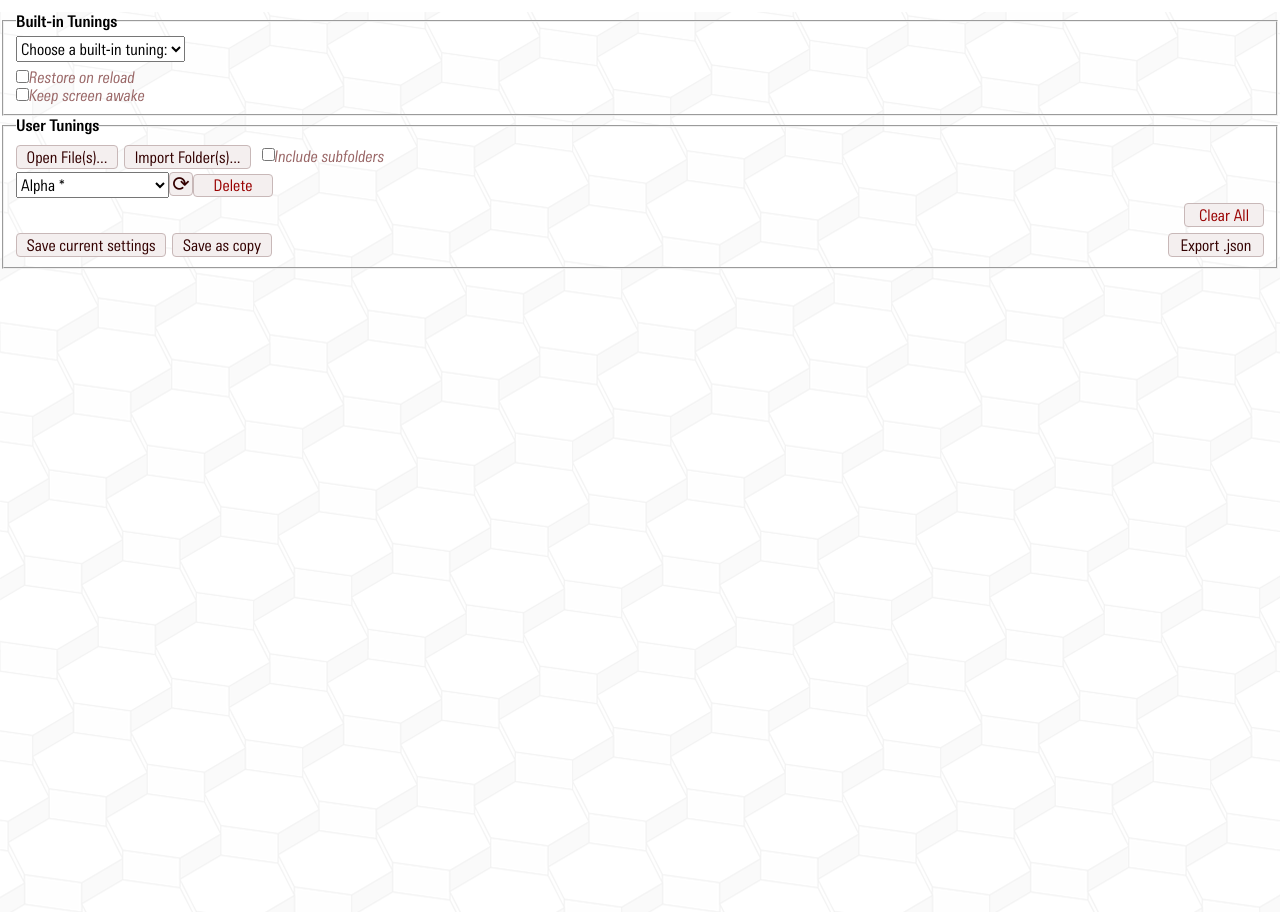
Test case: TuningLibrary › keeps save attached to the loaded user tuning after renaming
Click the button "Save current settings": coordinates (91, 245) [16,233,166,257]
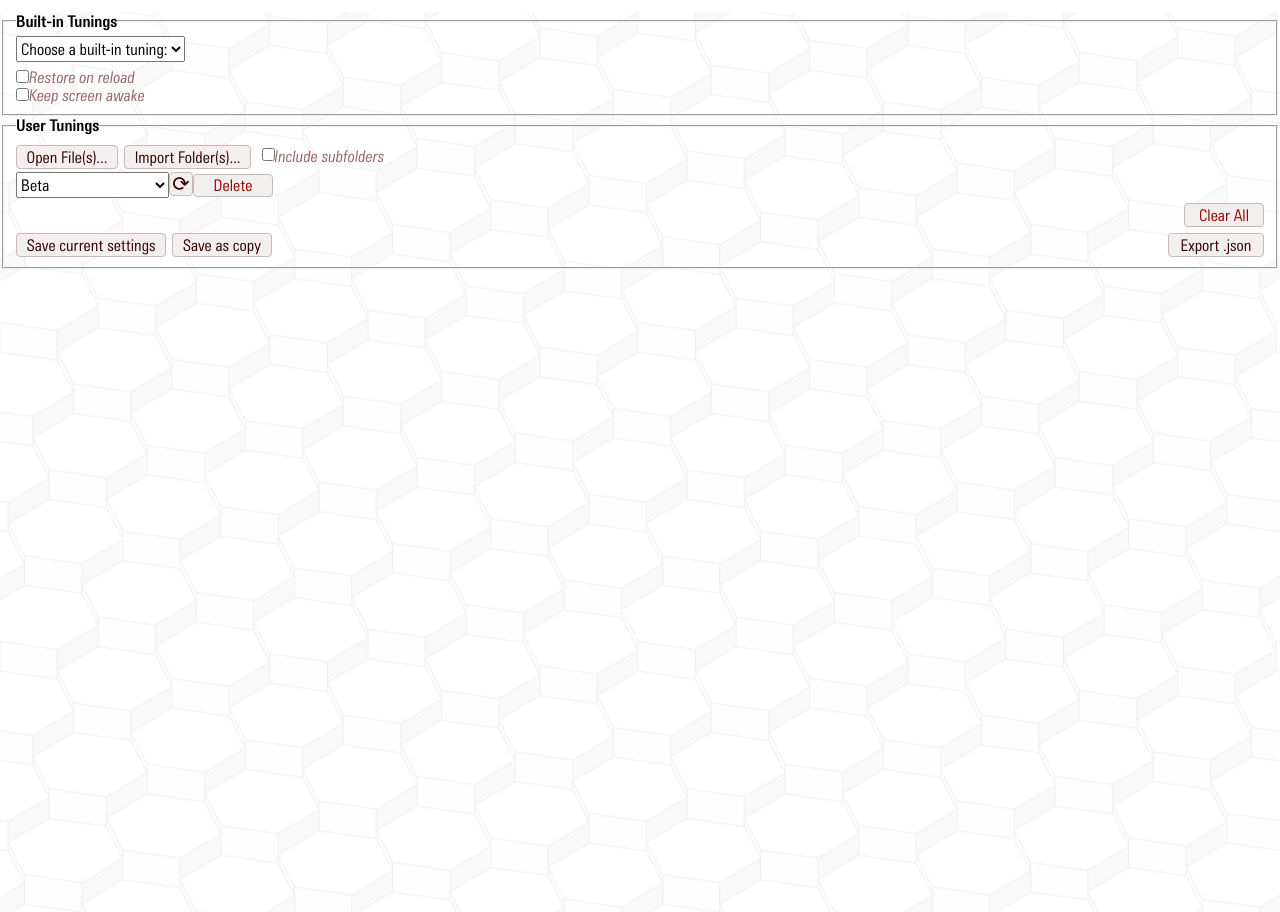
Result: the dropdown named "User tunings" shows "Beta" at [16,172,169,198]
